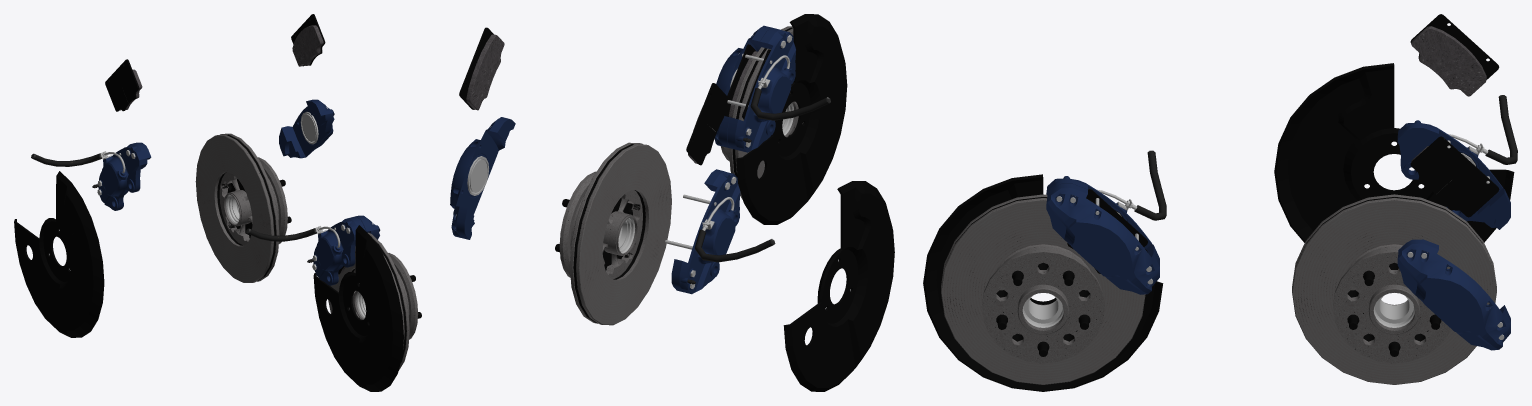
The model's file is tcc_models-disk_brakes.glb.
3 views of the same model, side by side, from view 1: azimuth 30°, elevation 25°; view 2: azimuth 150°, elevation 25°; view 3: azimuth 270°, elevation 25° (orthographic). The views are drawn at different scales.
Parts seen in each view (by area): view 1: disco_completo, disco, tampa_tras, pinca, pastilha; view 2: disco_completo, disco, tampa_tras, pinca, pastilha; view 3: disco_completo, disco, tampa_tras, pinca, pastilha.
Boxes of the visible parts, x1,y1,x2,y2 form: disco_completo: (246,215,421,391); disco: (195,133,291,282); tampa_tras: (14,171,104,337); pinca: (31,99,334,210); pastilha: (105,14,325,111); disco_completo: (714,14,847,224); disco: (555,142,671,325); tampa_tras: (783,181,894,391); pinca: (450,117,775,294); pastilha: (459,27,727,165); disco_completo: (923,150,1166,391); disco: (1292,194,1496,384); tampa_tras: (1274,63,1514,242); pinca: (1397,95,1517,350); pastilha: (1410,14,1499,217).
Bounding box in the file's own units: 0.5156 × 0.4051 × 0.6776.
3 materials, 3 textured.
